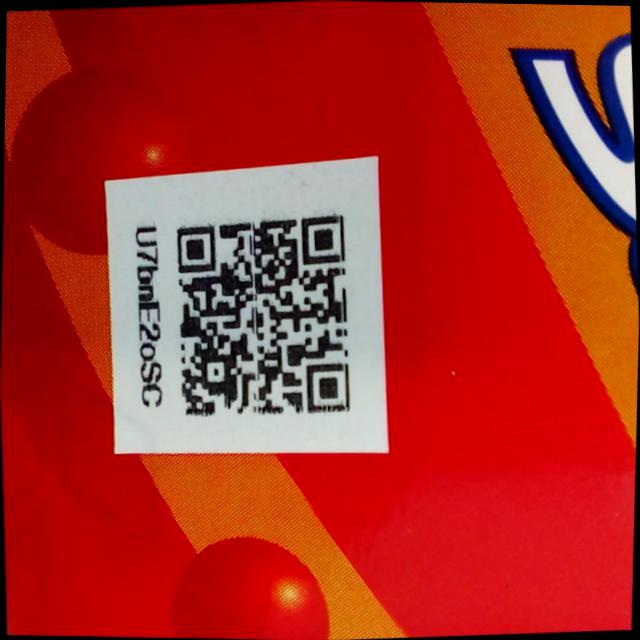QRCode: (164, 201, 366, 426)
